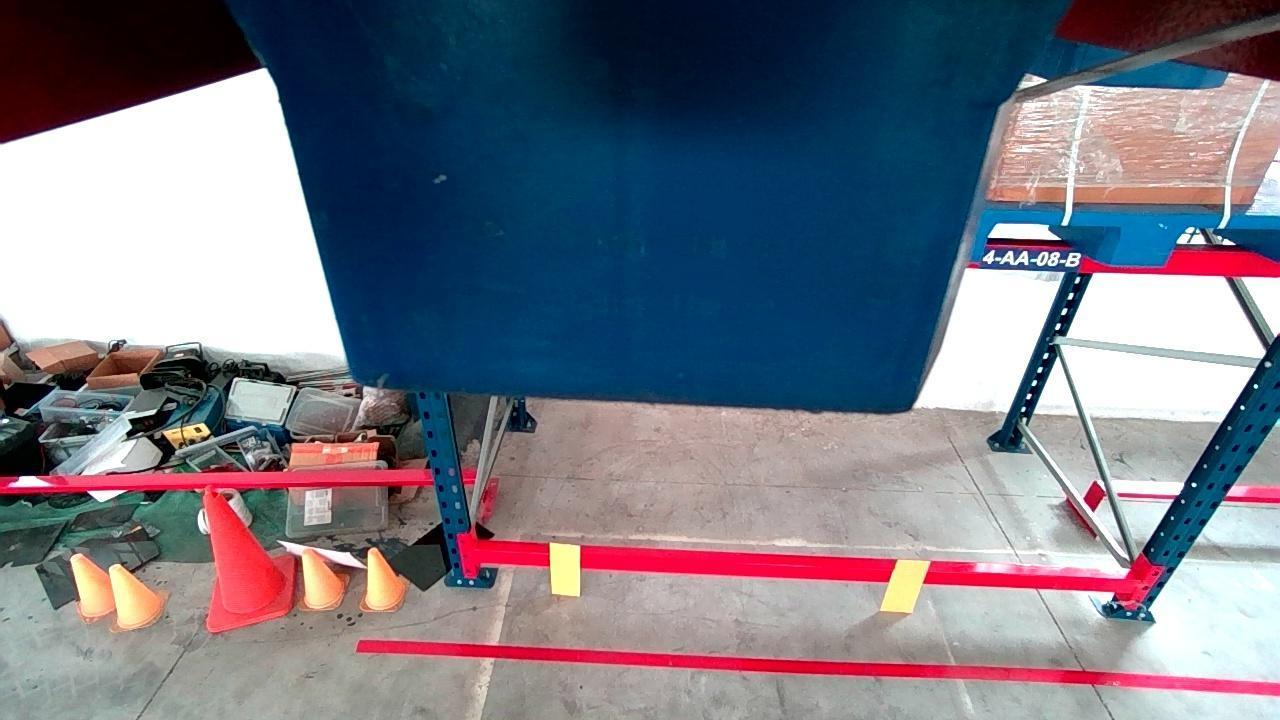h_rack: (476, 542, 1142, 591)
orange_strip: (882, 559, 930, 611), (550, 544, 579, 594)
red_line: (355, 637, 1280, 693)
small_pallet: (967, 205, 1280, 263)
